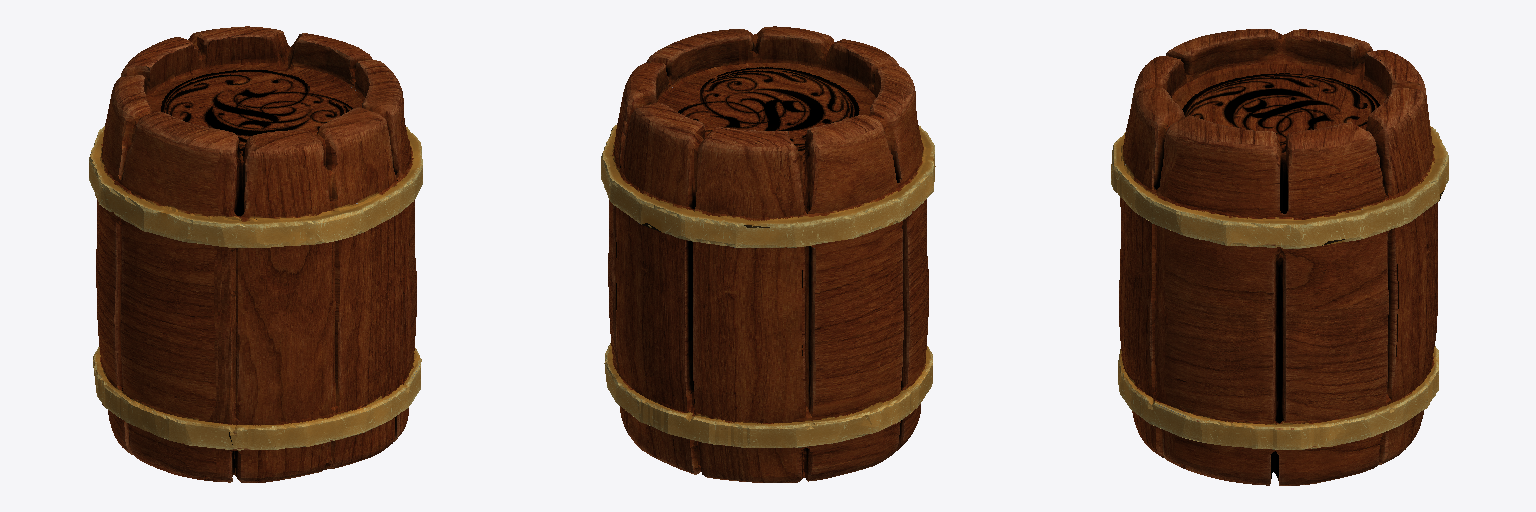
3 views of the same model, side by side, from view 1: azimuth 30°, elevation 25°; view 2: azimuth 150°, elevation 25°; view 3: azimuth 270°, elevation 25° (orthographic).
Visible parts, largest first — view 1: default; view 2: default; view 3: default.
Part boxes in pixels (bbox=[...]): default: bbox=[89, 26, 422, 482]; default: bbox=[601, 26, 935, 482]; default: bbox=[1111, 29, 1448, 485].
Bounding box in the file's own units: 42.13 × 47.8 × 42.48.
1 materials, 1 textured.